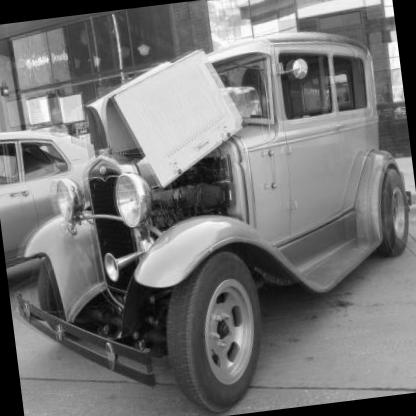car: (1, 3, 416, 416)
